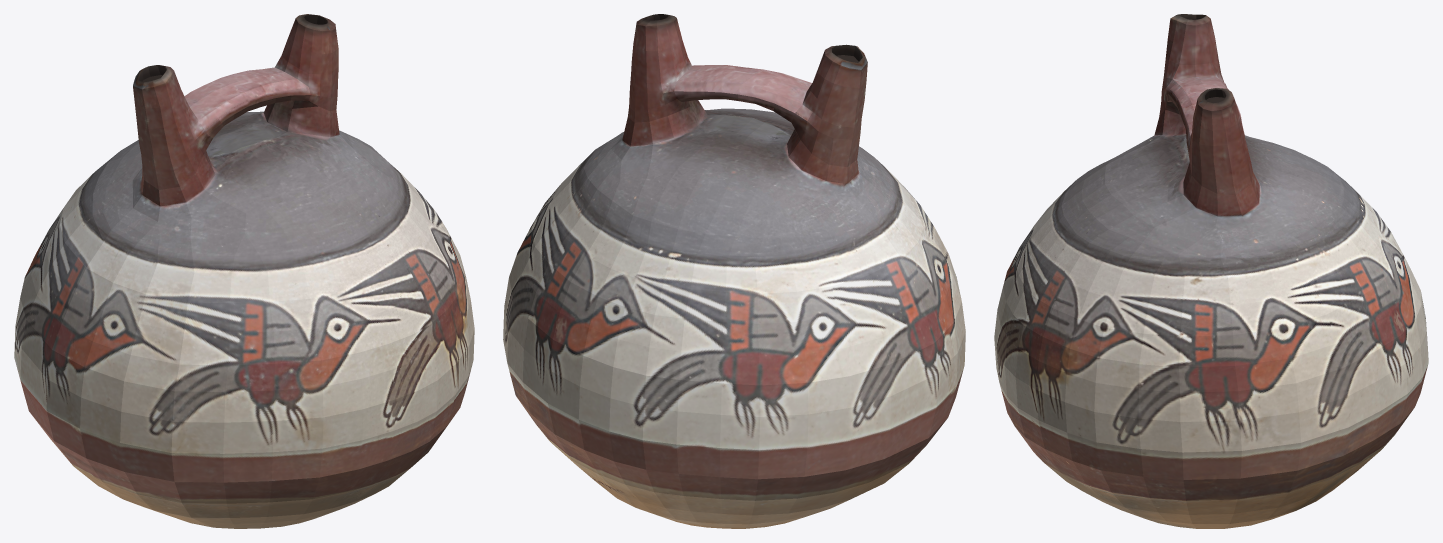
Rendered from objeto_02_nasca.glb.
The picture shows the model from 3 angles, left to right: view 1: azimuth 30°, elevation 25°; view 2: azimuth 150°, elevation 25°; view 3: azimuth 270°, elevation 25°; orthographic projection. The views are drawn at different scales.
Visible parts, largest first — view 1: Box001; view 2: Box001; view 3: Box001.
Part boxes in pixels (x1,y1,x2,y2): Box001: (14, 14, 474, 528); Box001: (503, 14, 965, 528); Box001: (994, 14, 1428, 528).
Bounding box in the file's own units: 0.7587 × 0.8226 × 0.7579.
Materials: 1 (1 with a texture image).
